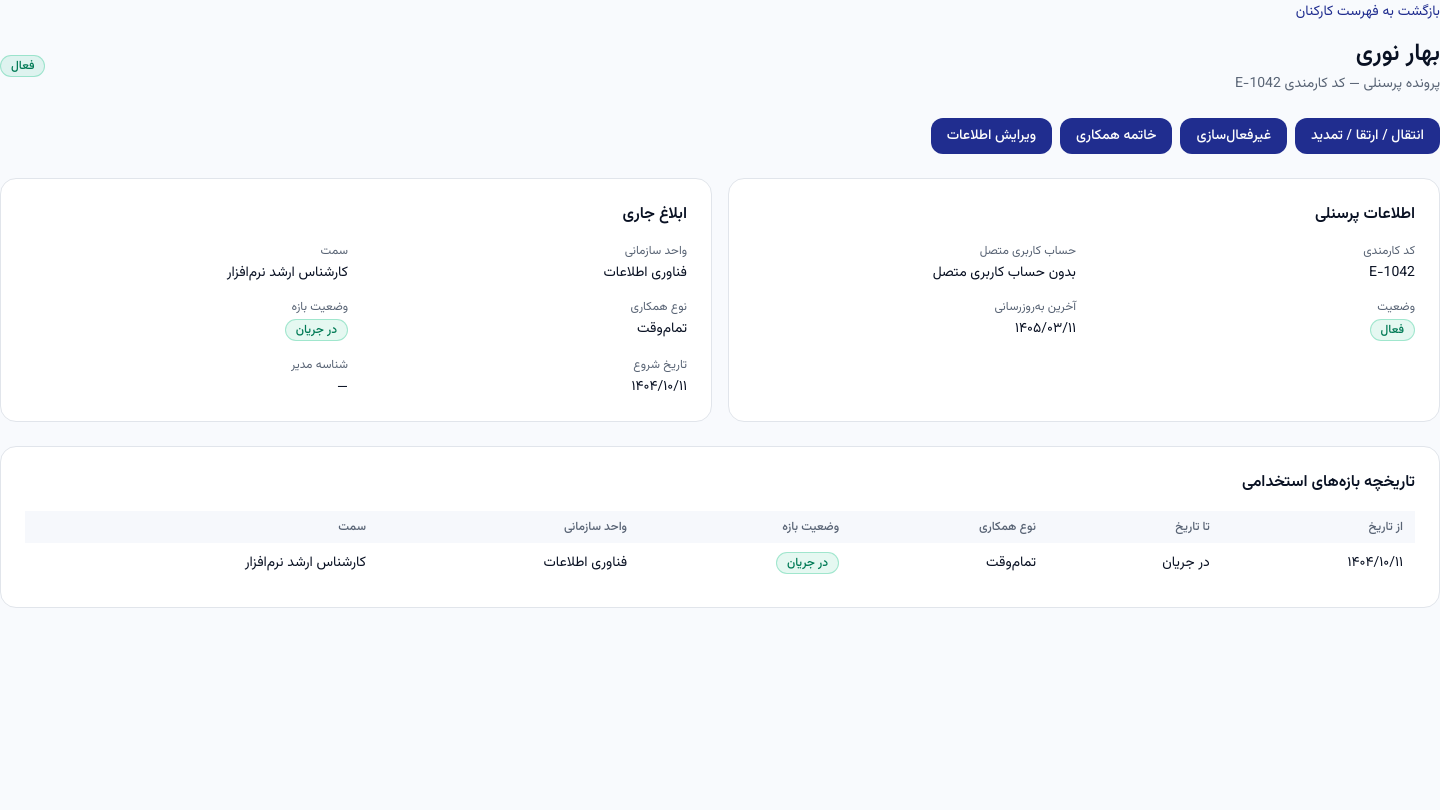
it: HrEmployeeDetailView › rejects a malformed employee code before spending a request
Click the button with test id "hr-detail-settings-open" at (991, 136), box [931,118,1052,154]
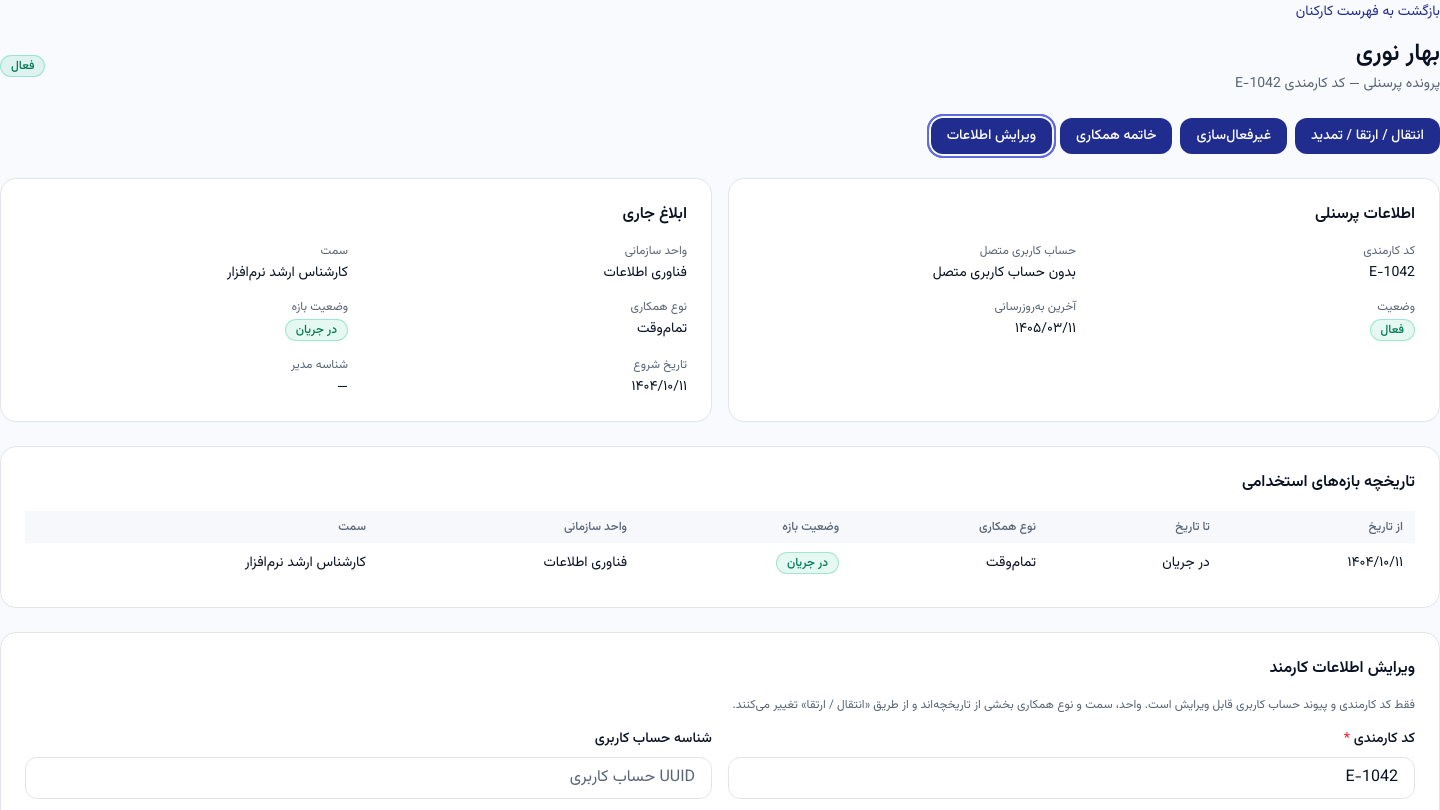
Replace the text in the field with test id "hr-settings-code" with "!!bad!!" at (1072, 778), box [728,757,1415,799]
(page scrolled)
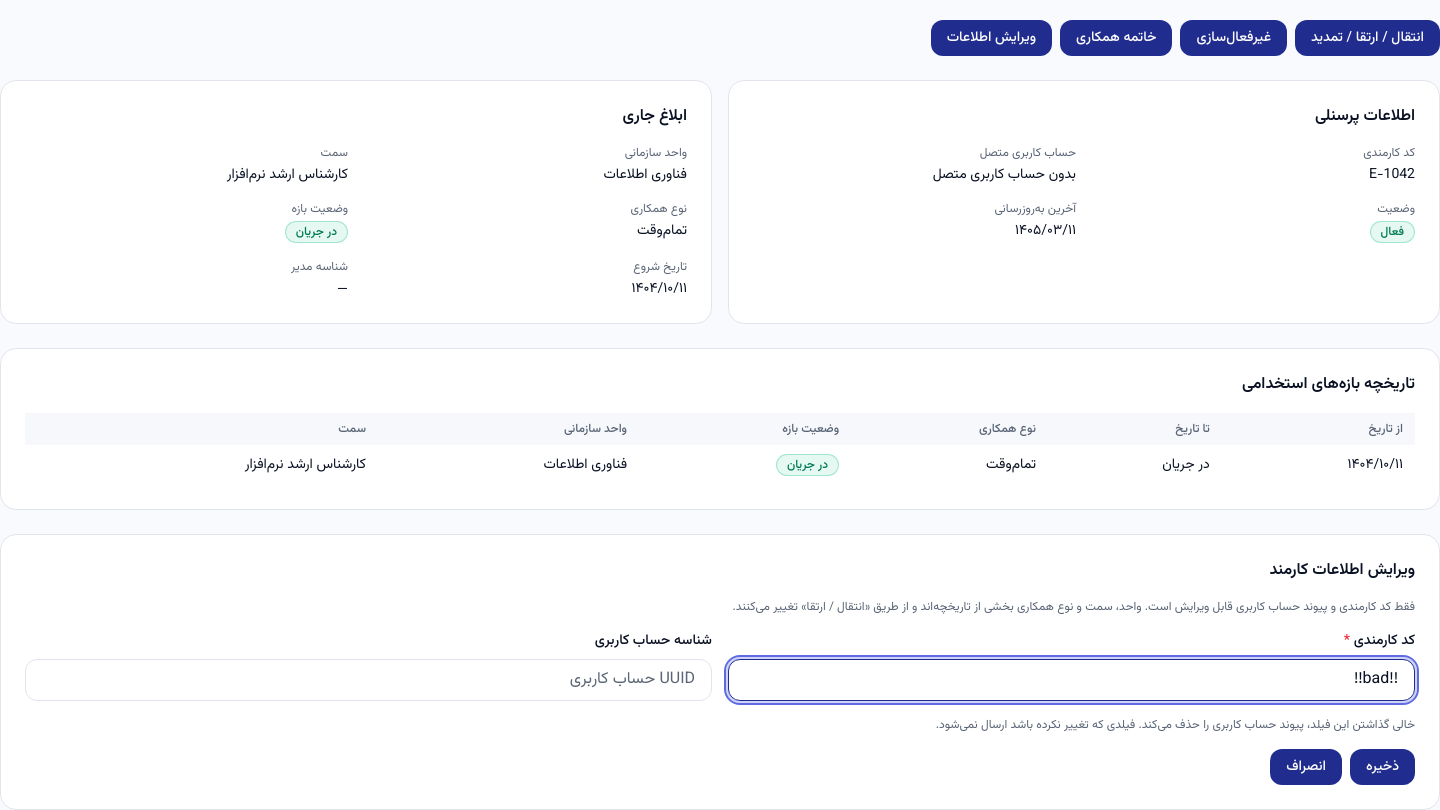
Click the button with test id "hr-settings-submit" at (1383, 767), box [1350,749,1415,785]
(page scrolled)
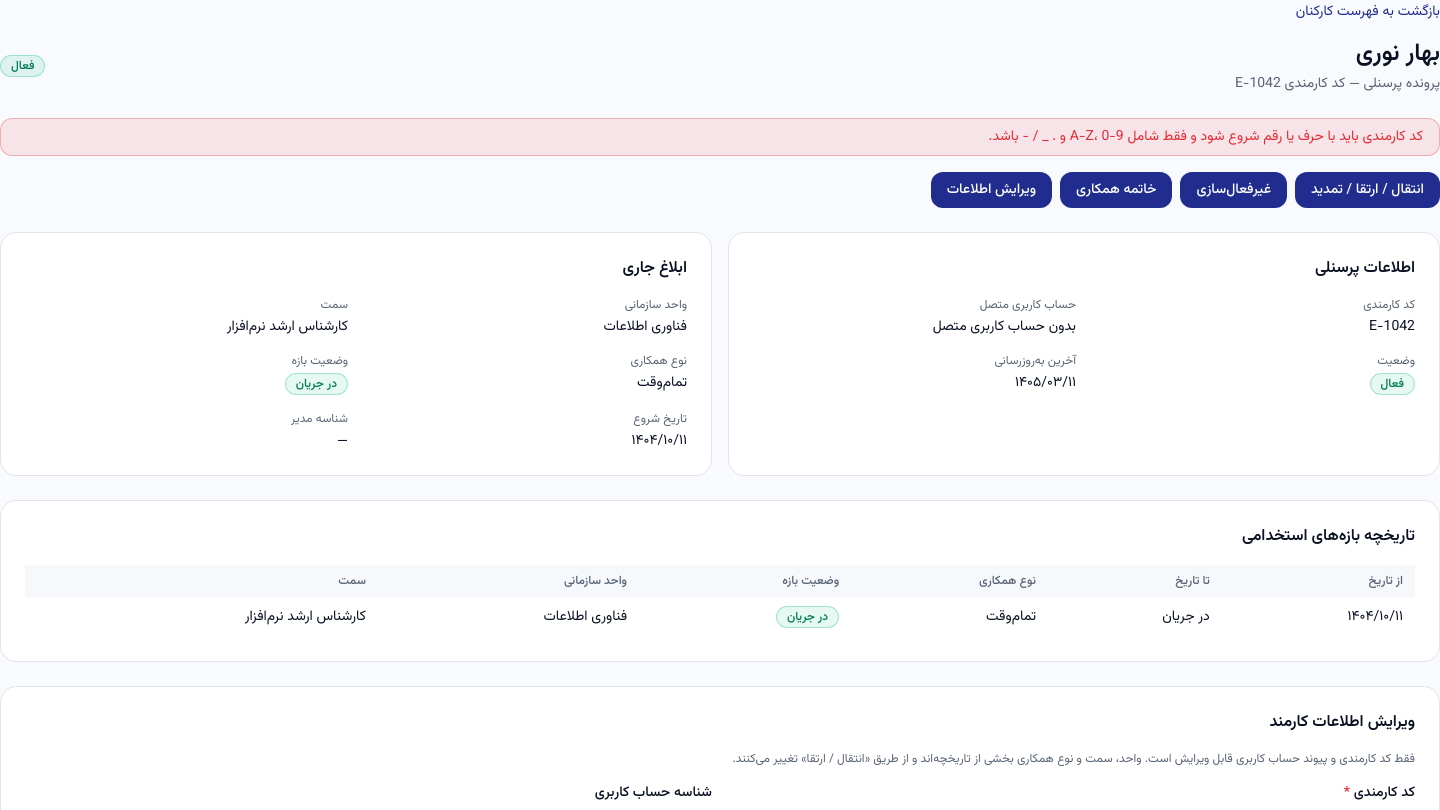
Check: the text "کد کارمندی باید با حرف یا رقم شروع شود و فقط شامل A-Z، 0-9 و . _ / - باشد." is shown, box [0,118,1439,156]
